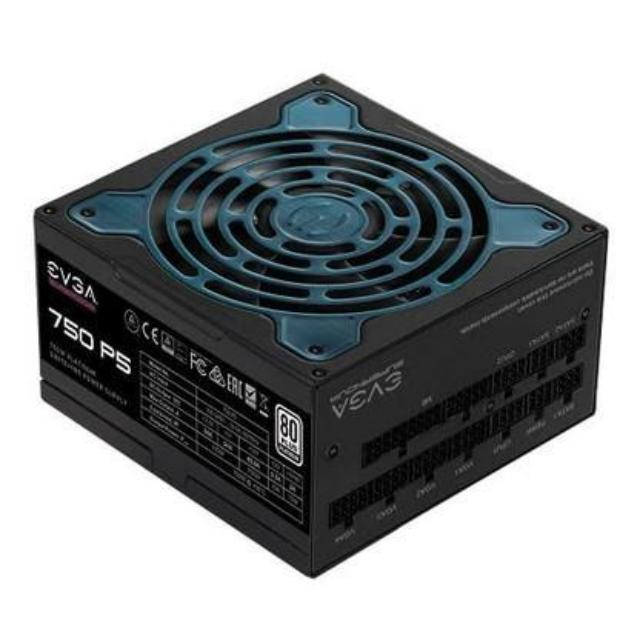PSU: (24, 62, 618, 586)
